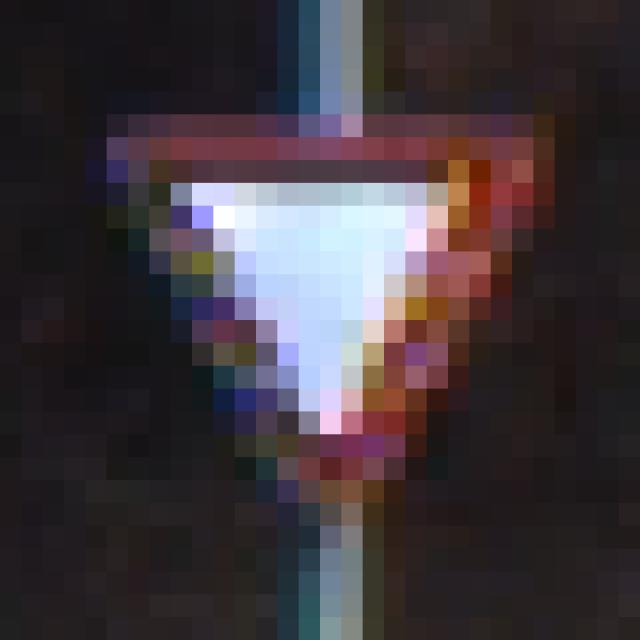Give Way: (108, 115, 534, 527)
